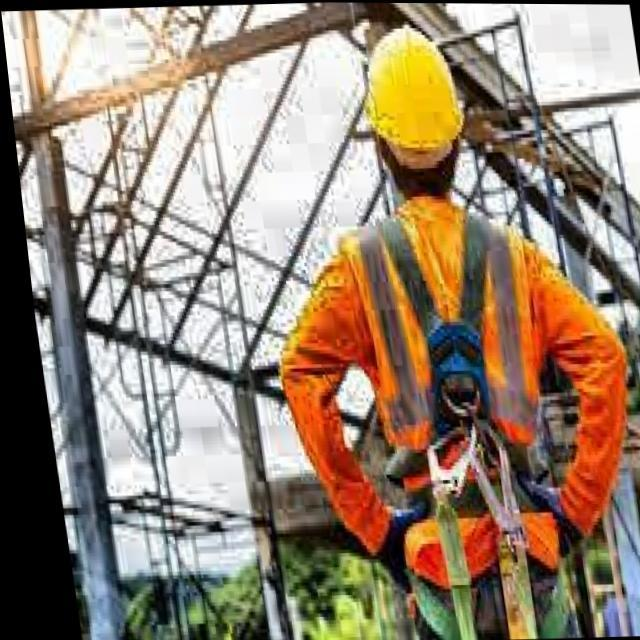belt: (343, 195, 572, 640)
